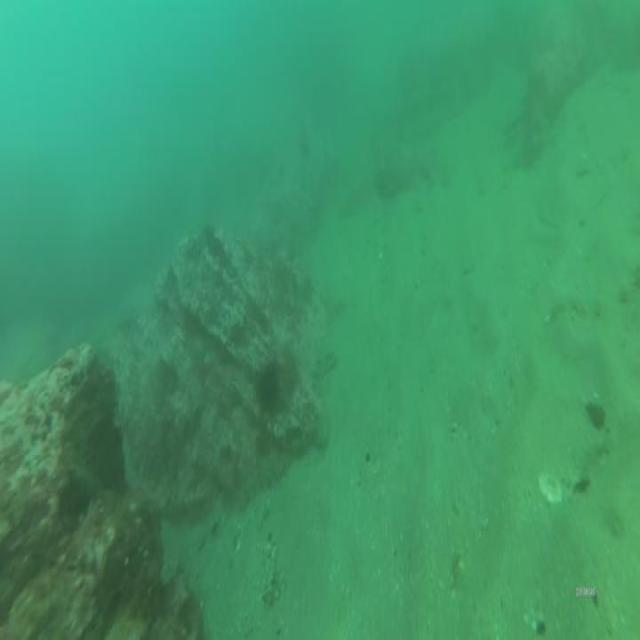echinus: (250, 354, 287, 423)
